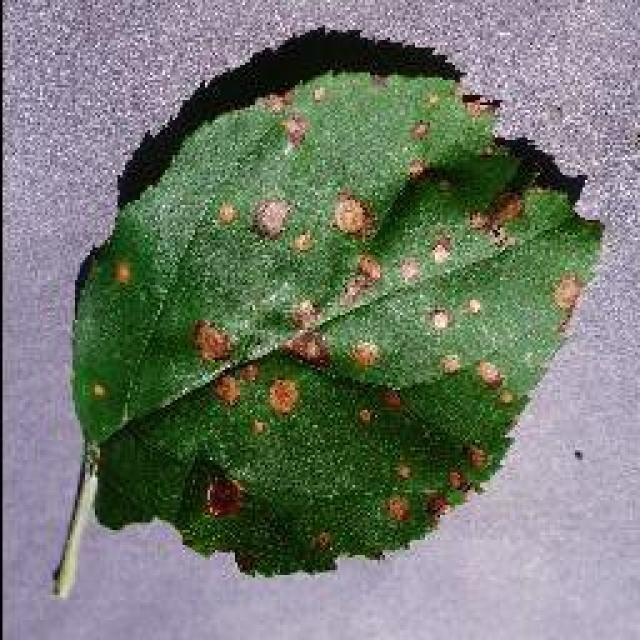apple healthy: (57, 25, 605, 587)
